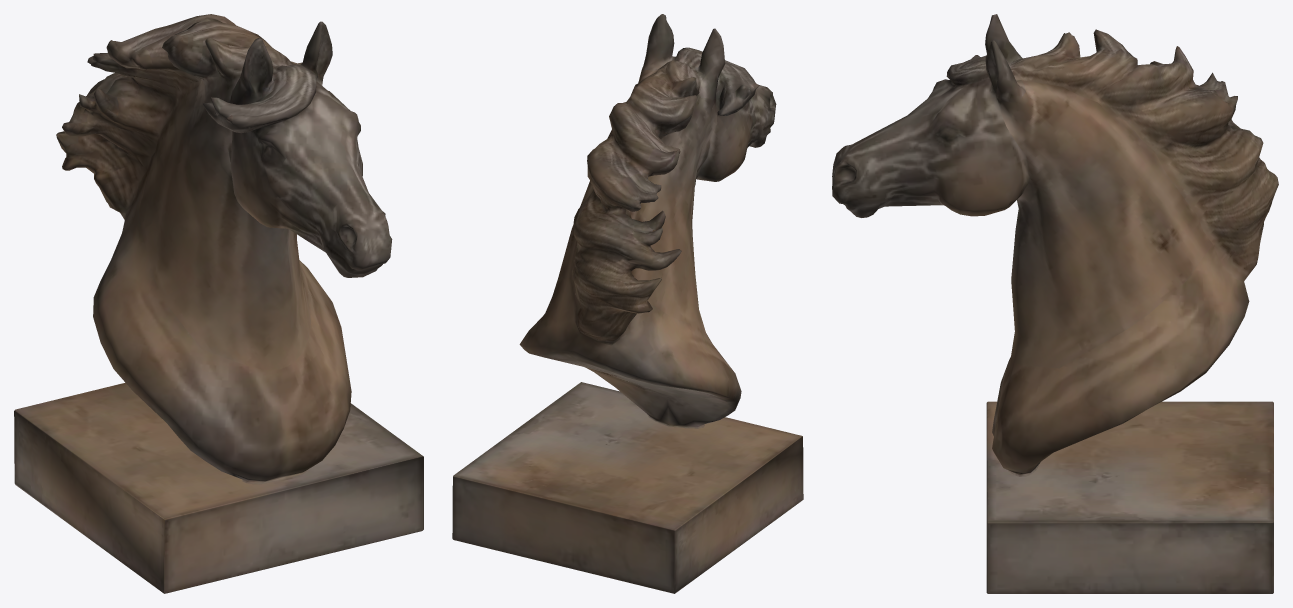
File: horse.glb
3 renders of one model, left to right at view 1: azimuth 30°, elevation 25°; view 2: azimuth 150°, elevation 25°; view 3: azimuth 270°, elevation 25°, orthographic. The views are drawn at different scales.
Parts seen in each view (by area): view 1: horse_head; view 2: horse_head; view 3: horse_head.
Part boxes in pixels (x1,y1,x2,y2): horse_head: (14, 14, 423, 593); horse_head: (452, 14, 803, 593); horse_head: (832, 14, 1278, 593).
Bounding box in the file's own units: 0.215 × 0.4186 × 0.3339.
1 material, 1 textured.
